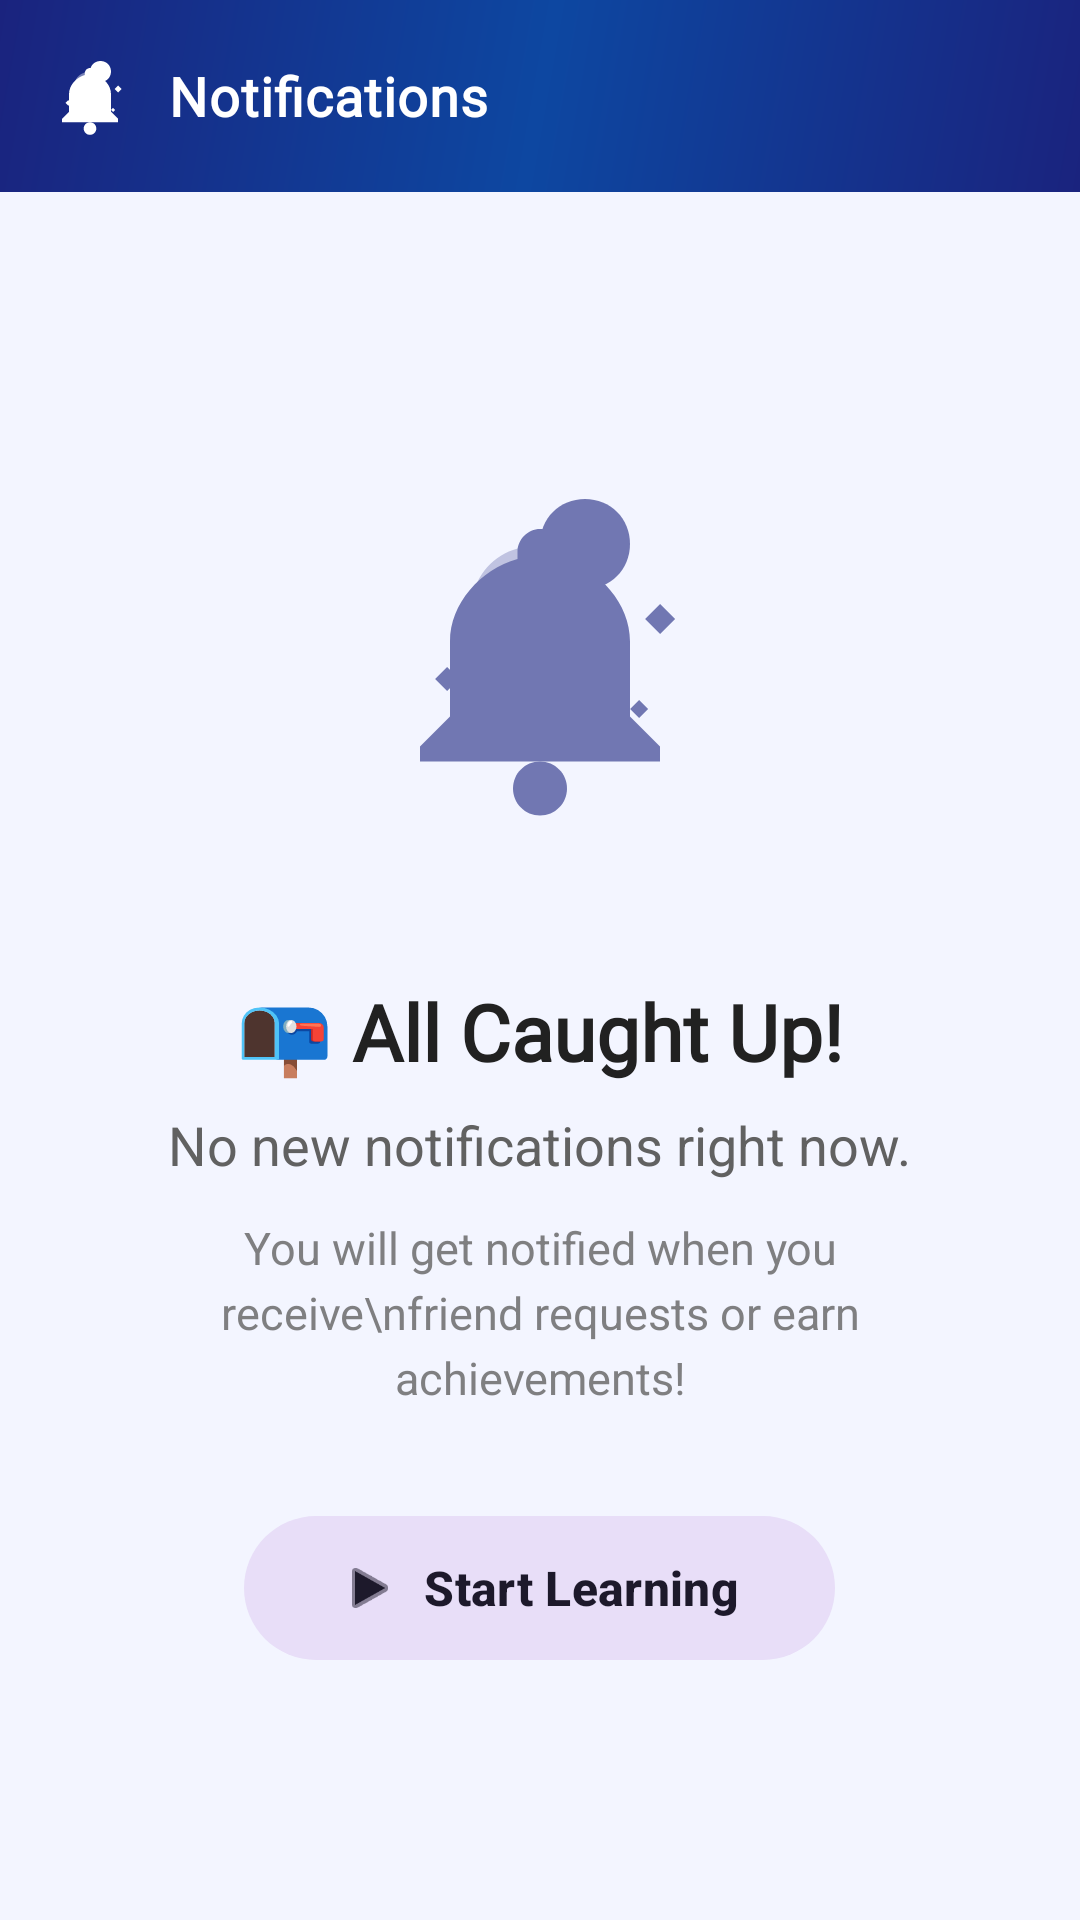

Where icons sit on this 1080×1920 app screen, as (x1, y1, x2, y2):
No notifications: (420, 499, 675, 816)
